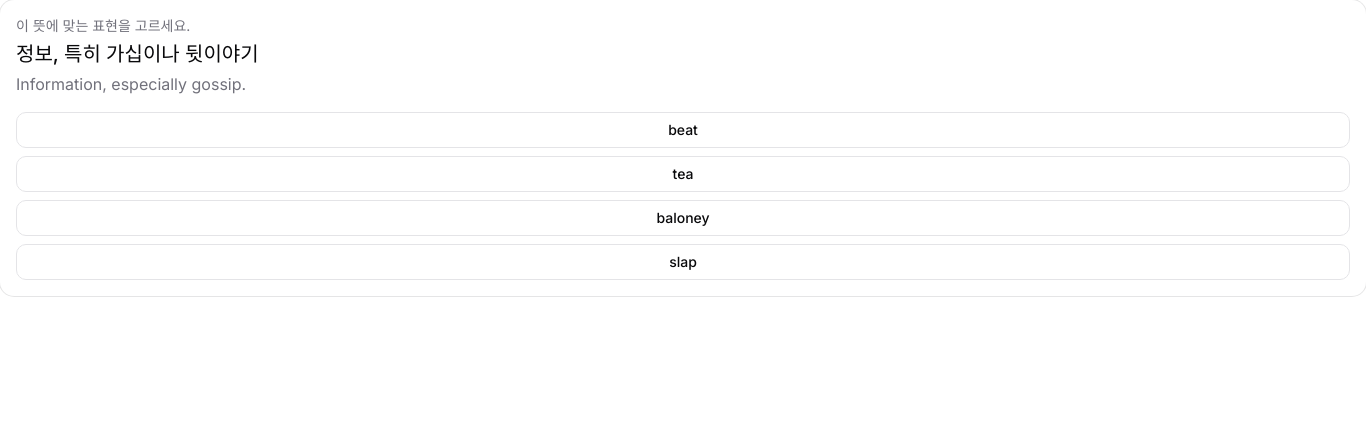
Scenario: 오답을 고르면 오답 표시와 함께 정답을 알려준다
Click the button "beat" at (683, 130), box [16, 112, 1350, 148]
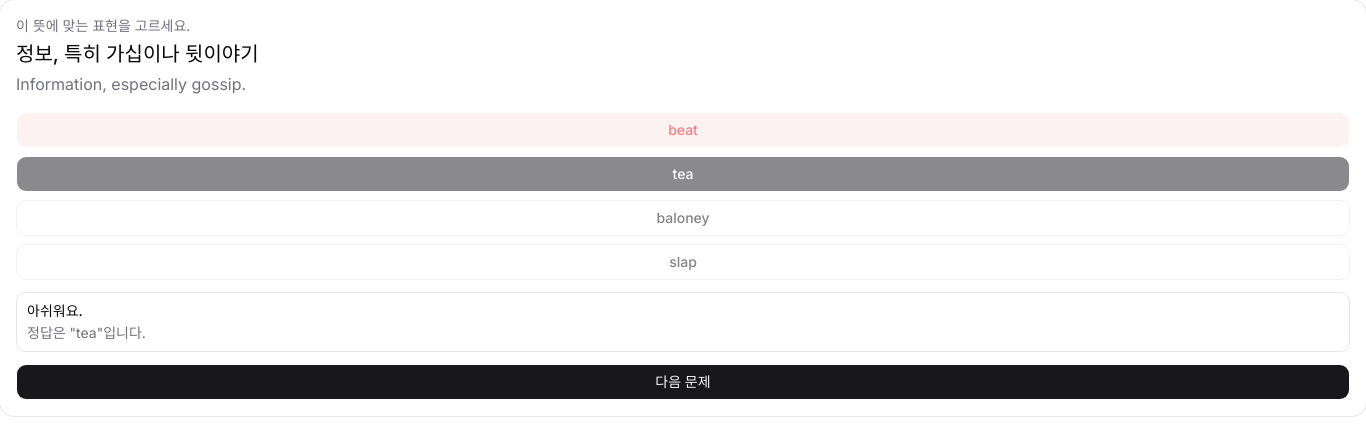
Now the text "아쉬워요." is shown, box [27, 302, 83, 319]
Now the text "정답은 \"tea\"입니다." is shown, box [27, 324, 146, 341]
